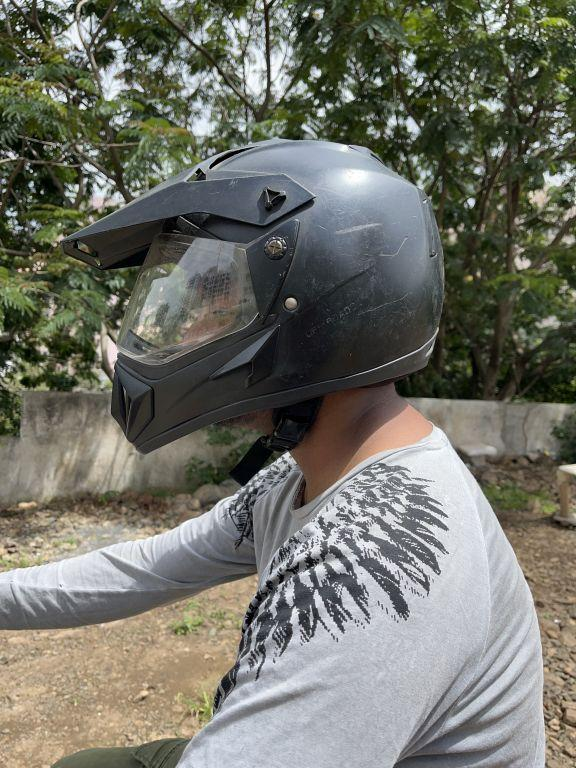helmet: (44, 104, 464, 462)
